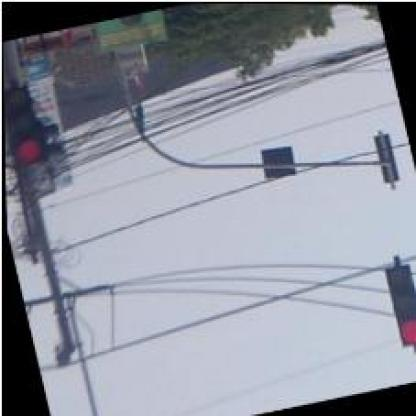red: (1, 80, 47, 170), (380, 257, 415, 348)
